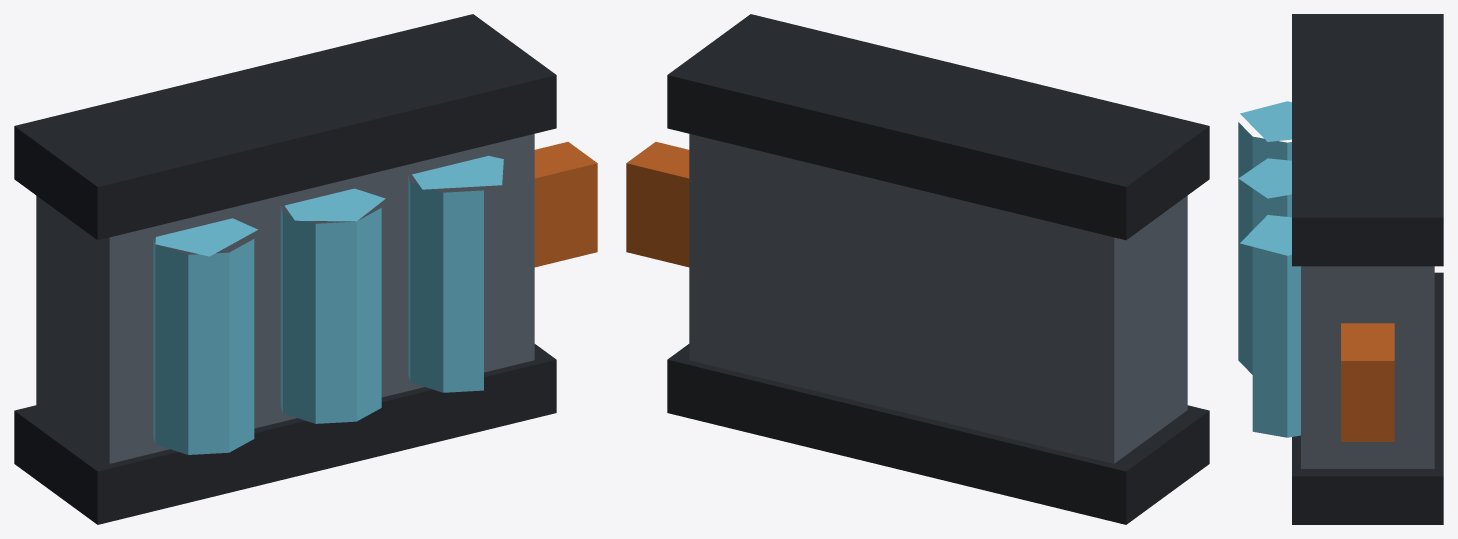
The model's file is power-belt.lod.glb.
3 views of the same model, side by side, from view 1: azimuth 30°, elevation 25°; view 2: azimuth 150°, elevation 25°; view 3: azimuth 270°, elevation 25° (orthographic). The views are drawn at different scales.
Visible parts, largest first — view 1: m; view 2: m; view 3: m.
Boxes of the visible parts, x1=… form: m: x1=14, y1=14, x2=597, y2=524; m: x1=626, y1=14, x2=1209, y2=524; m: x1=1238, y1=14, x2=1443, y2=524.
Bounding box in the file's own units: 0.11 × 0.0674 × 0.0408.
